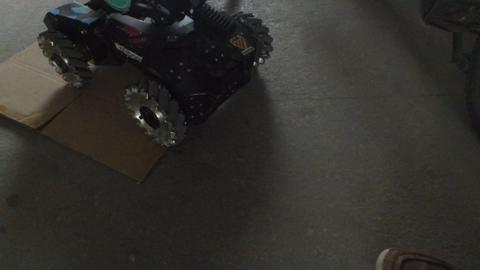chariot: (25, 3, 288, 164)
